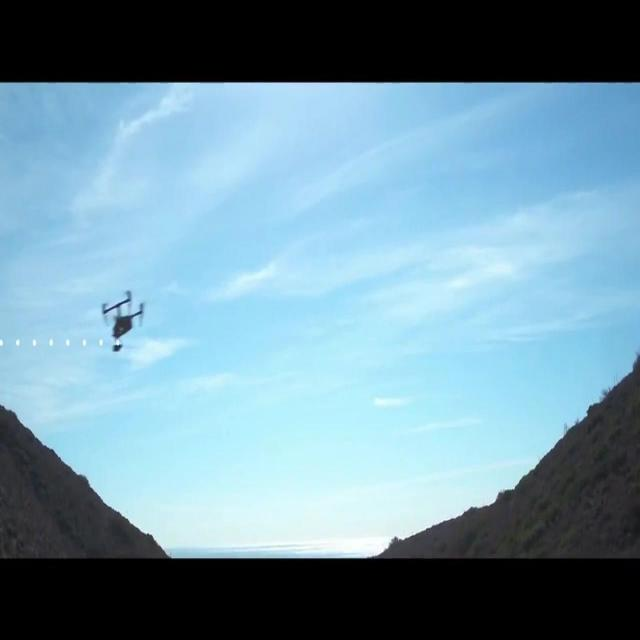UAV: (100, 290, 146, 354)
